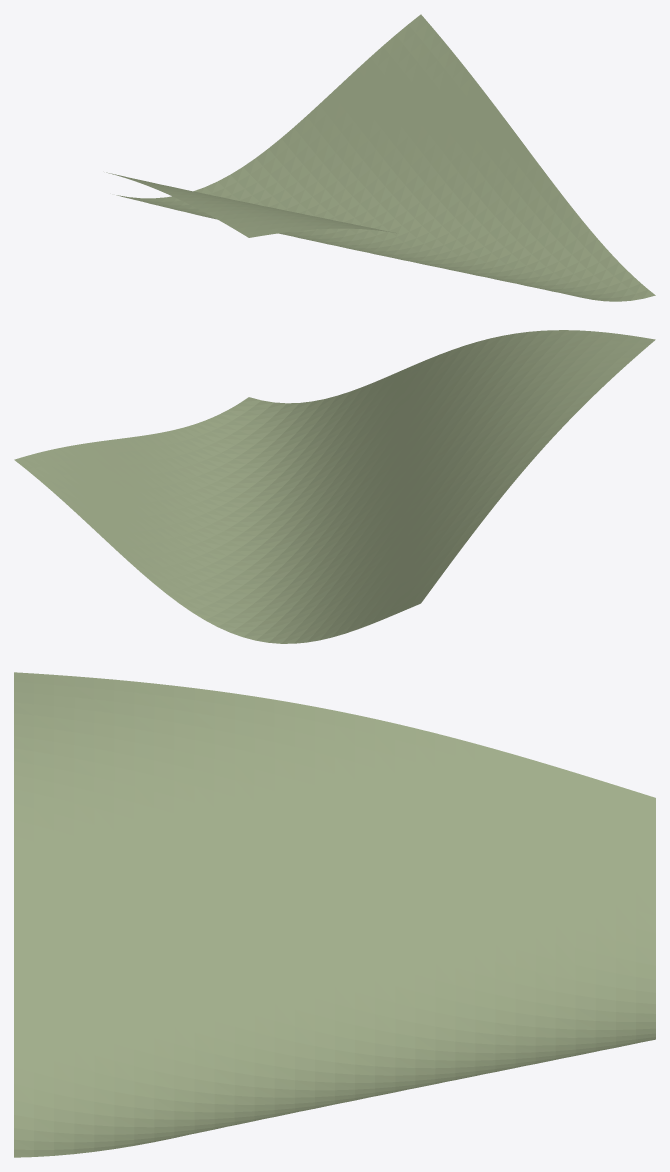
Rendered from expanse-14-30.glb.
3 views of the same model, one above another, from view 1: azimuth 30°, elevation 25°; view 2: azimuth 150°, elevation 25°; view 3: azimuth 270°, elevation 25° (orthographic). The views are drawn at different scales.
Parts seen in each view (by area): view 1: expanse-14-30; view 2: expanse-14-30; view 3: expanse-14-30.
Part boxes in pixels (x1,y1,x2,y2): expanse-14-30: [106, 14, 655, 301]; expanse-14-30: [14, 330, 655, 643]; expanse-14-30: [14, 672, 655, 1157].
Bounding box in the file's own units: 256 × 102 × 256.
